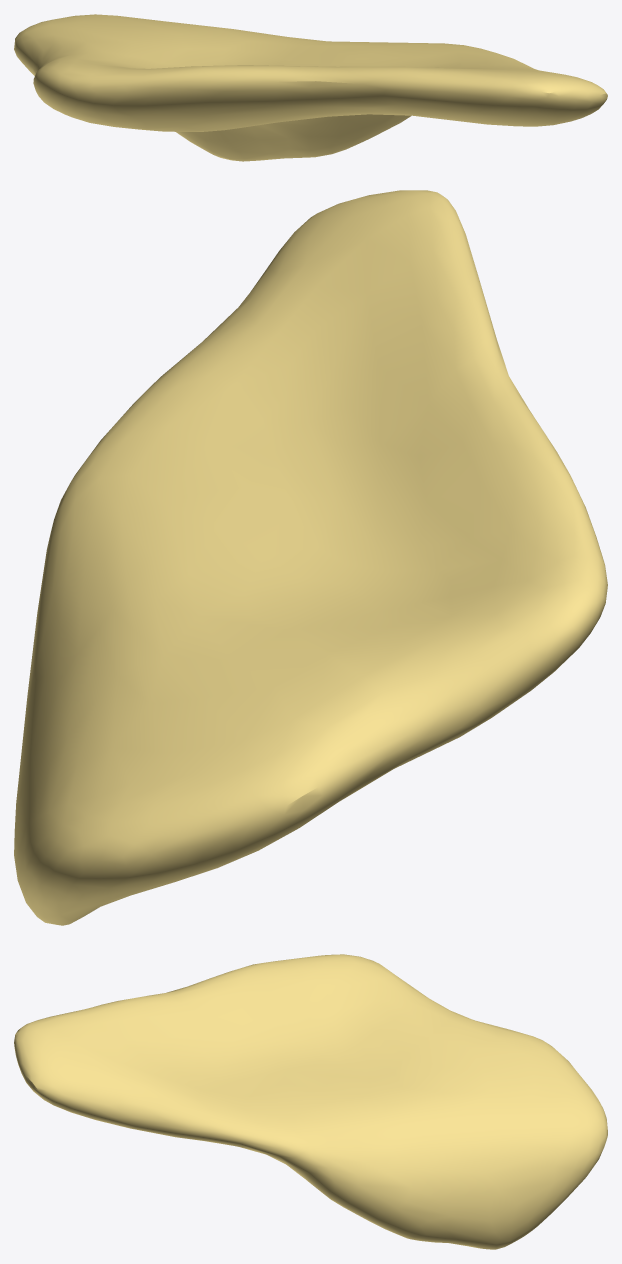
File: fma73373_mm2953m.glb
The picture shows the model from 3 angles, top to bottom: view 1: azimuth 30°, elevation 25°; view 2: azimuth 150°, elevation 25°; view 3: azimuth 270°, elevation 25°; orthographic projection. The views are drawn at different scales.
Parts seen in each view (by area): view 1: FMA73373_MM2953M; view 2: FMA73373_MM2953M; view 3: FMA73373_MM2953M.
Boxes of the visible parts, x1,y1,x2,y2 form: FMA73373_MM2953M: [14, 14, 607, 161]; FMA73373_MM2953M: [14, 190, 607, 925]; FMA73373_MM2953M: [14, 954, 607, 1249].
Bounding box in the file's own units: 0.0114 × 0.00763 × 0.0178.
